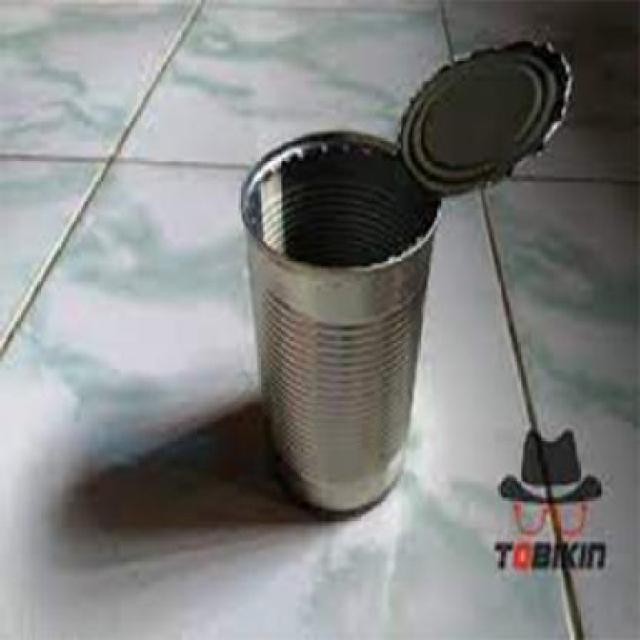Metal: (237, 34, 574, 520)
